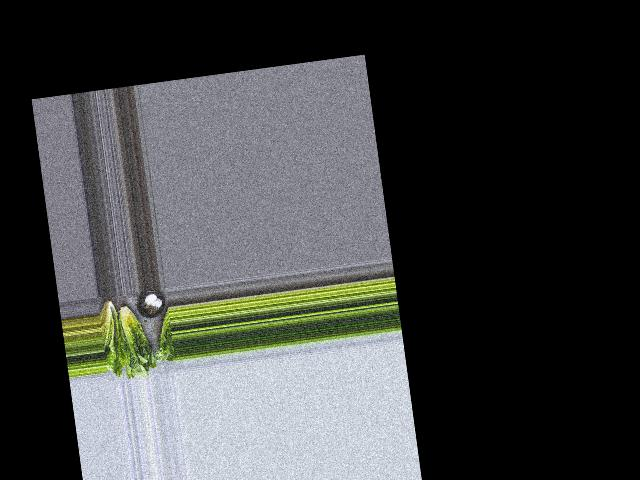lettuce: (97, 294, 127, 372)
